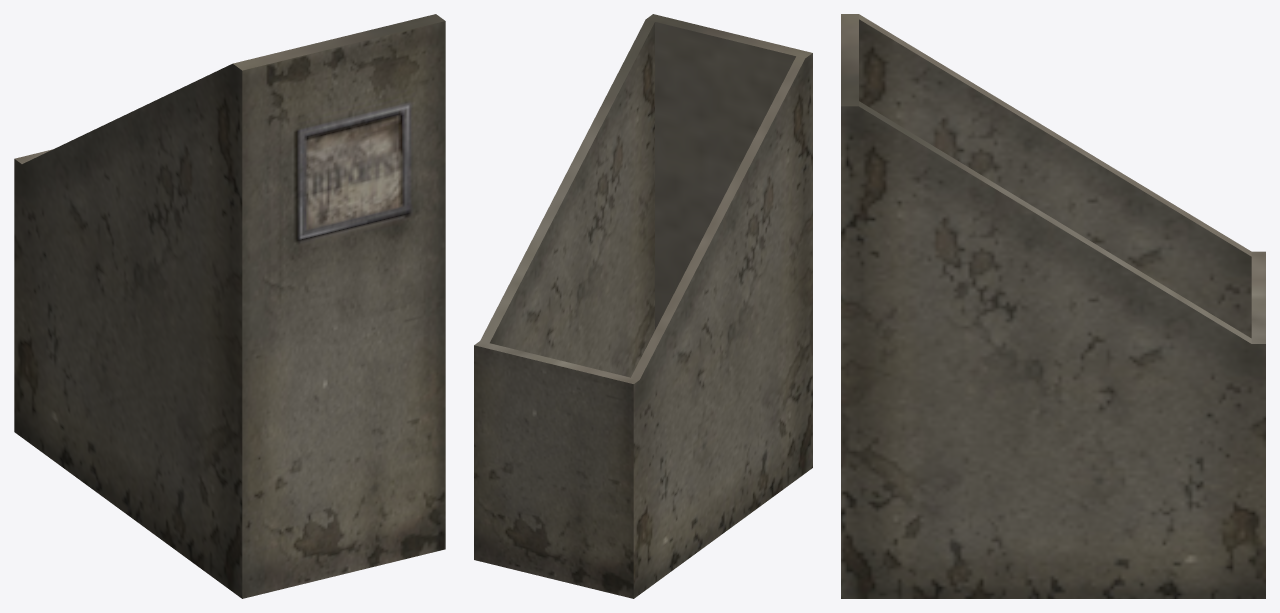
File: office_folderholder_empty.dae
3 renders of one model, left to right at view 1: azimuth 30°, elevation 25°; view 2: azimuth 150°, elevation 25°; view 3: azimuth 270°, elevation 25°, orthographic. The views are drawn at different scales.
Visible parts, largest first — view 1: holder; view 2: holder; view 3: holder.
Part boxes in pixels (<box>): holder: <box>14,14,445,598</box>; holder: <box>474,14,812,598</box>; holder: <box>841,14,1265,598</box>.
Size of what is drawn, in the model's own units: 0.1287 by 0.3196 by 0.2499.
